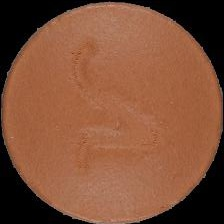67046-013: (0, 0, 224, 224)
